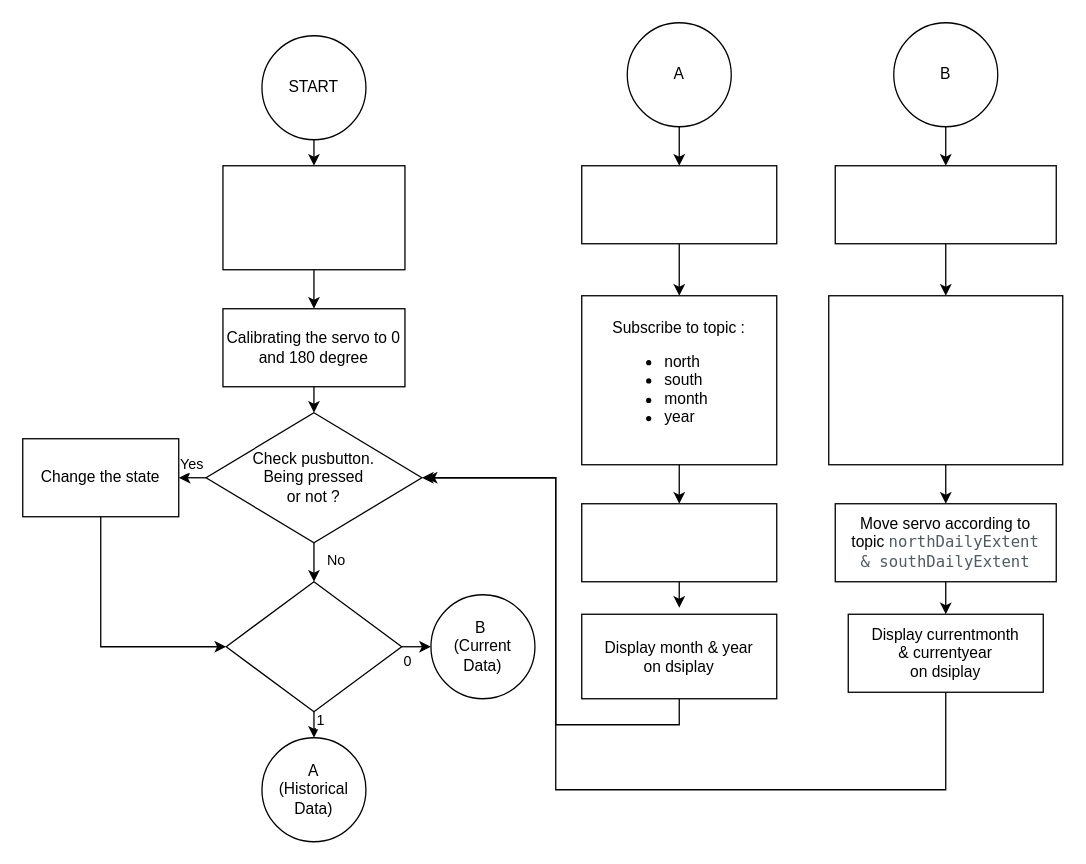
Some shapes in this 1086 by 864 pixel diagram are drawn without their labels. The shapes that lost their labels are listed below. From the top down, each one's box as (x1, y1, x2, y2) in pixels, then its label:
(222, 164, 405, 270): Initialisation of : Servo Oled Display Push Button Wifi
(580, 164, 777, 244): Turn the button led off (Historical Data)
(834, 164, 1056, 244): Turn the button led on (Current Data)
(827, 294, 1063, 465): Subscribe to topic : northDailyExtent southDailyExtent currentmonth currentyear
(580, 502, 777, 582): Move servo according to topic north & south
(225, 580, 402, 712): Check the state topic. Is it 0 or 1 ?
